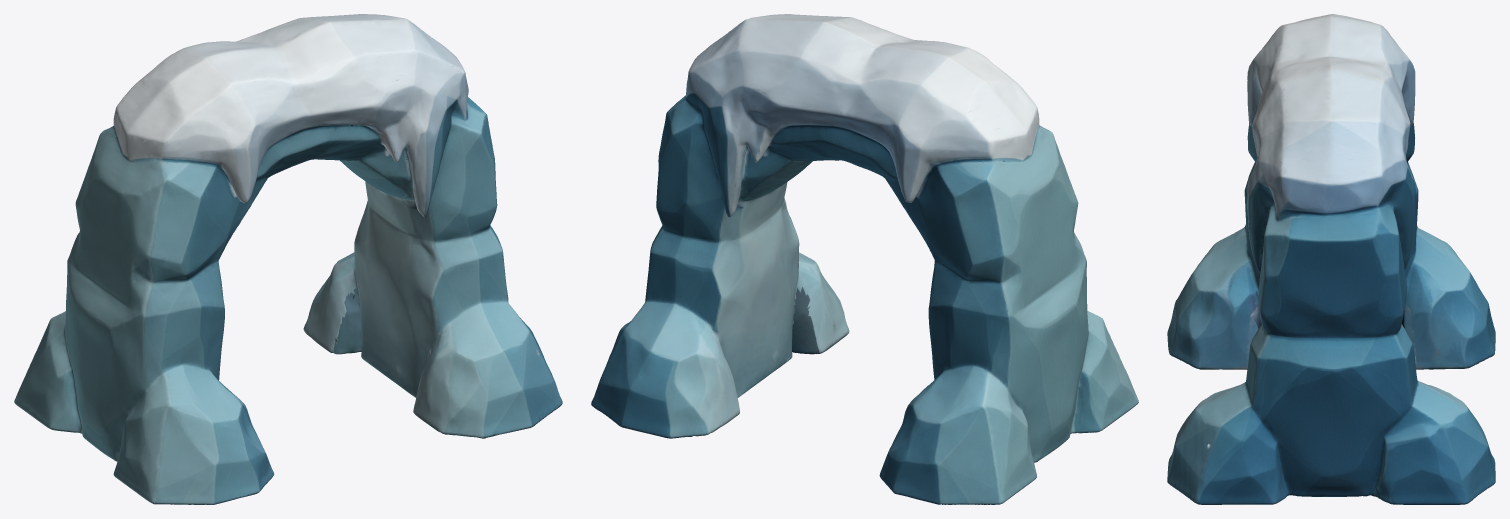
The model's file is Arch.fbx.
3 views of the same model, side by side, from view 1: azimuth 30°, elevation 25°; view 2: azimuth 150°, elevation 25°; view 3: azimuth 270°, elevation 25° (orthographic). The views are drawn at different scales.
Parts seen in each view (by area): view 1: material_0; view 2: material_0; view 3: material_0.
Part boxes in pixels (left/top/right/bottom): material_0: left=14, top=14, right=562, bottom=504; material_0: left=591, top=14, right=1138, bottom=504; material_0: left=1167, top=14, right=1495, bottom=504.
Size of the model in its own units: 100 by 86.89 by 71.66.
1 material, 1 textured.
